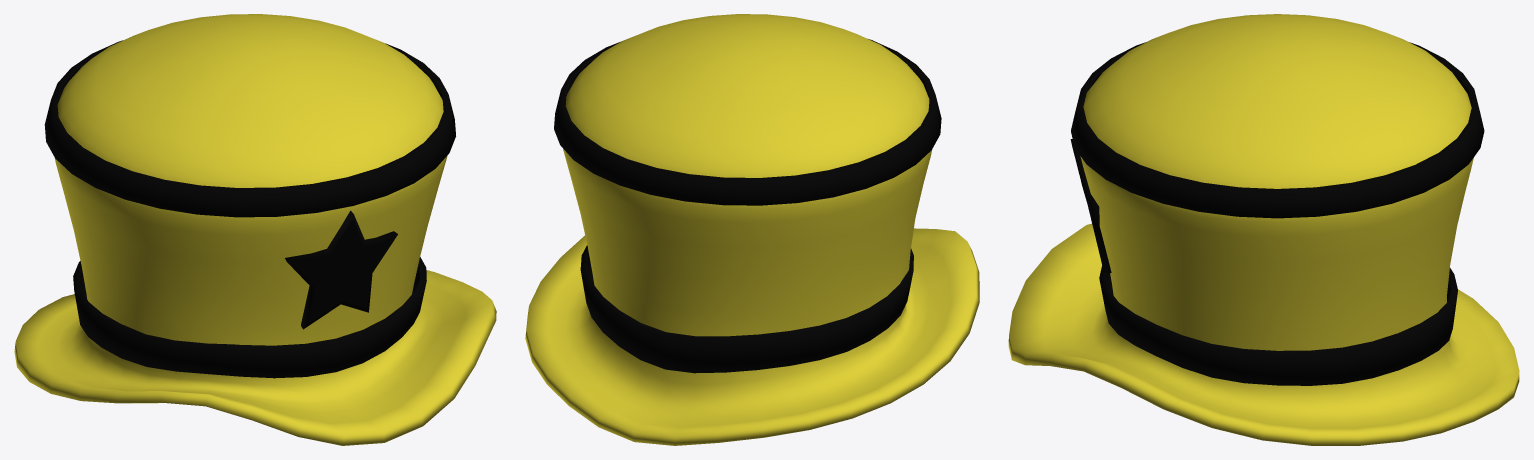
The model's file is BootsyCollinsHat_cosmetic.fbx.
The picture shows the model from 3 angles, left to right: view 1: azimuth 30°, elevation 25°; view 2: azimuth 150°, elevation 25°; view 3: azimuth 270°, elevation 25°; orthographic projection. The views are drawn at different scales.
Visible parts, largest first — view 1: Circle.002; view 2: Circle.002; view 3: Circle.002.
Boxes of the visible parts, x1,y1,x2,y2 form: Circle.002: [14, 14, 496, 445]; Circle.002: [525, 14, 979, 445]; Circle.002: [1008, 14, 1519, 445].
Bounding box in the file's own units: 208 × 161 × 221.
